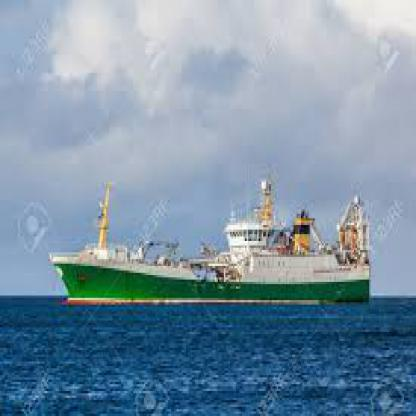fish-b: (43, 166, 384, 314)
